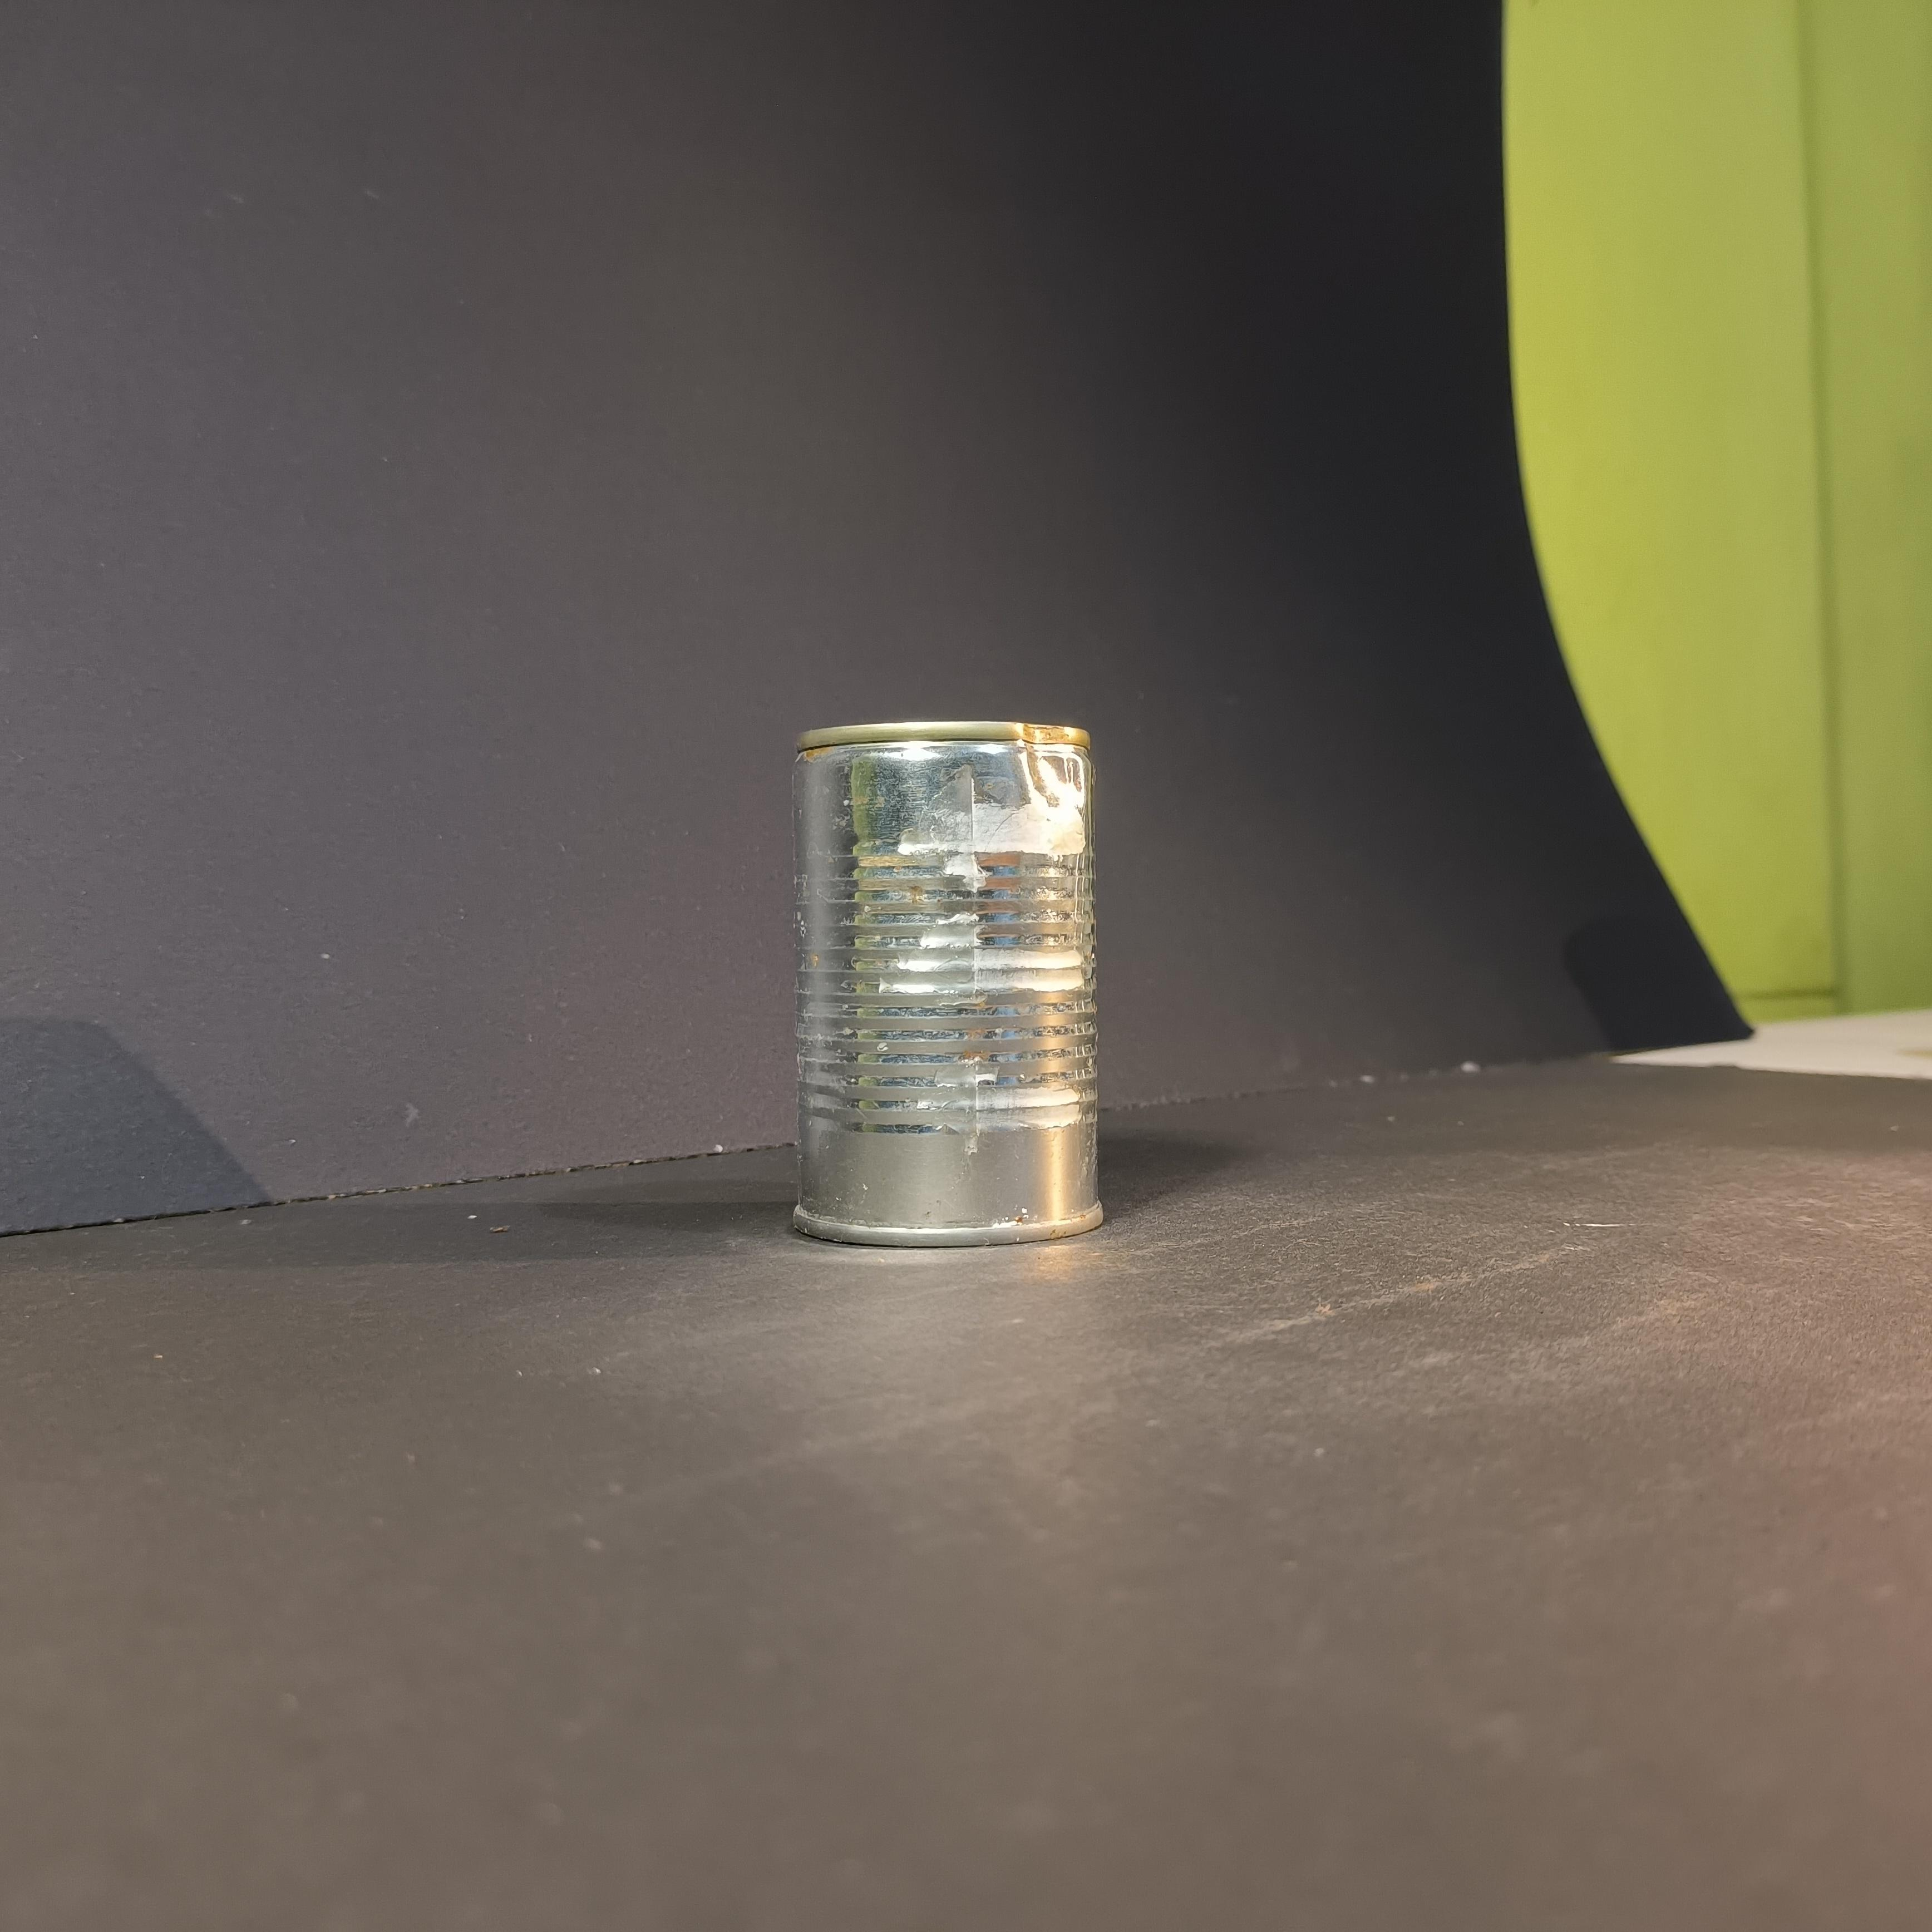Dented: (782, 687, 1132, 1260)
